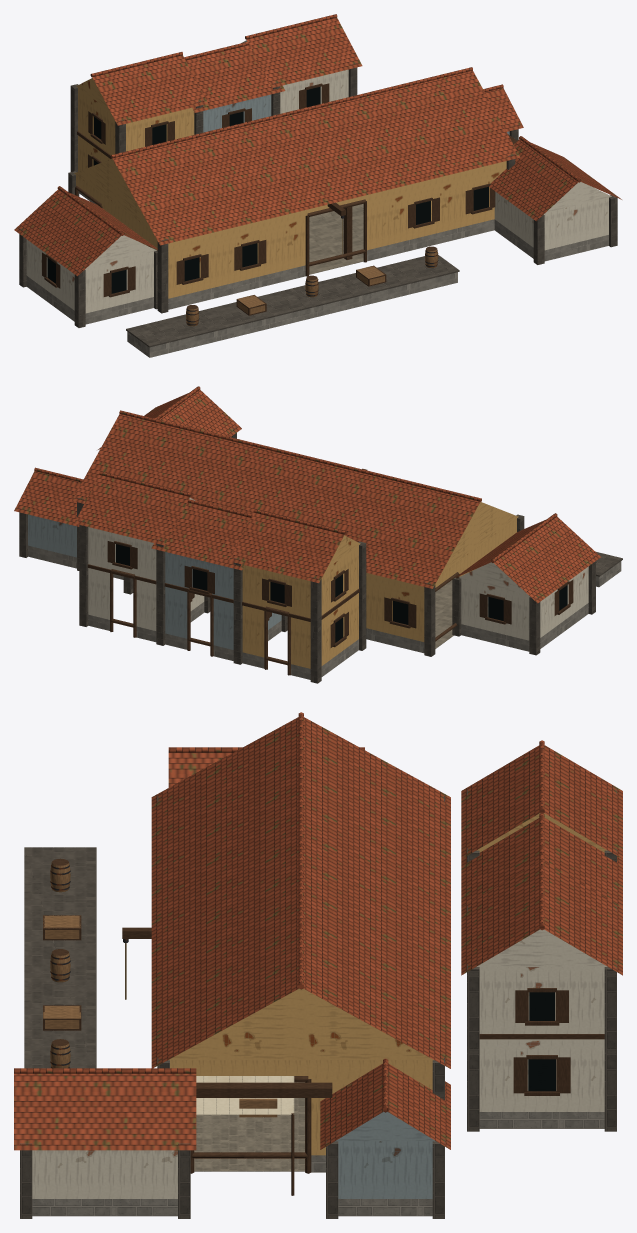
Rendered from SM_Art_RexaWarehouseQuarter.gltf.
3 renders of one model, top to bottom at view 1: azimuth 30°, elevation 25°; view 2: azimuth 150°, elevation 25°; view 3: azimuth 270°, elevation 25°, orthographic. The views are drawn at different scales.
Parts seen in each view (by area): view 1: SM_Art_RexaWarehouseQuarter; view 2: SM_Art_RexaWarehouseQuarter; view 3: SM_Art_RexaWarehouseQuarter.
Part boxes in pixels (x1,y1,x2,y2): SM_Art_RexaWarehouseQuarter: [14, 14, 621, 357]; SM_Art_RexaWarehouseQuarter: [14, 386, 622, 683]; SM_Art_RexaWarehouseQuarter: [14, 712, 622, 1218].
Size of the model in its own units: 25.7 by 6.73 by 17.7.
Materials: 13 (12 with a texture image).
